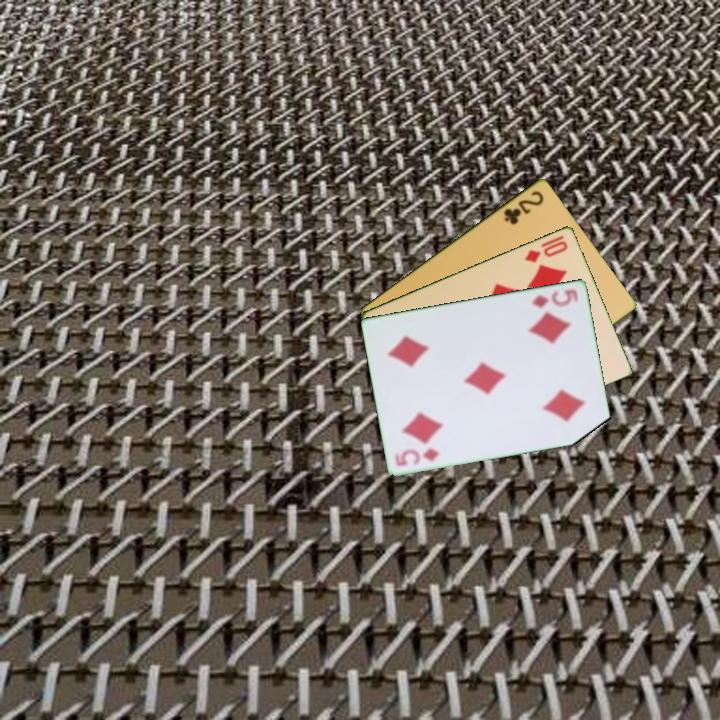10d: (521, 231, 571, 265)
2c: (500, 187, 547, 227)
5d: (528, 285, 581, 311), (392, 444, 442, 468)
